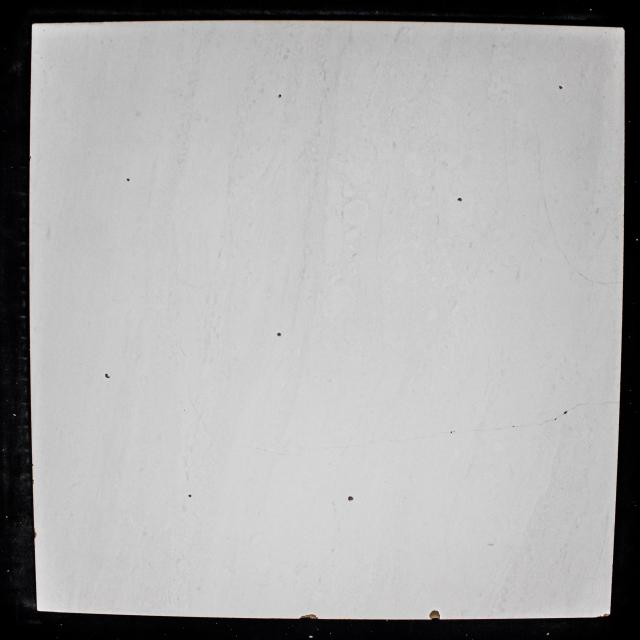edge-chipping: (429, 609, 441, 620), (299, 614, 319, 620), (34, 527, 37, 539), (32, 479, 35, 485), (32, 464, 34, 466)
hole: (104, 373, 110, 379), (347, 496, 354, 501), (558, 85, 564, 90), (277, 332, 282, 337), (457, 197, 462, 202), (126, 178, 131, 182), (188, 494, 192, 498), (278, 94, 282, 98), (564, 411, 568, 414), (450, 431, 453, 435)
line: (517, 415, 564, 429), (543, 196, 557, 242), (570, 400, 620, 410), (580, 274, 622, 285), (564, 255, 580, 274), (472, 425, 511, 432)
